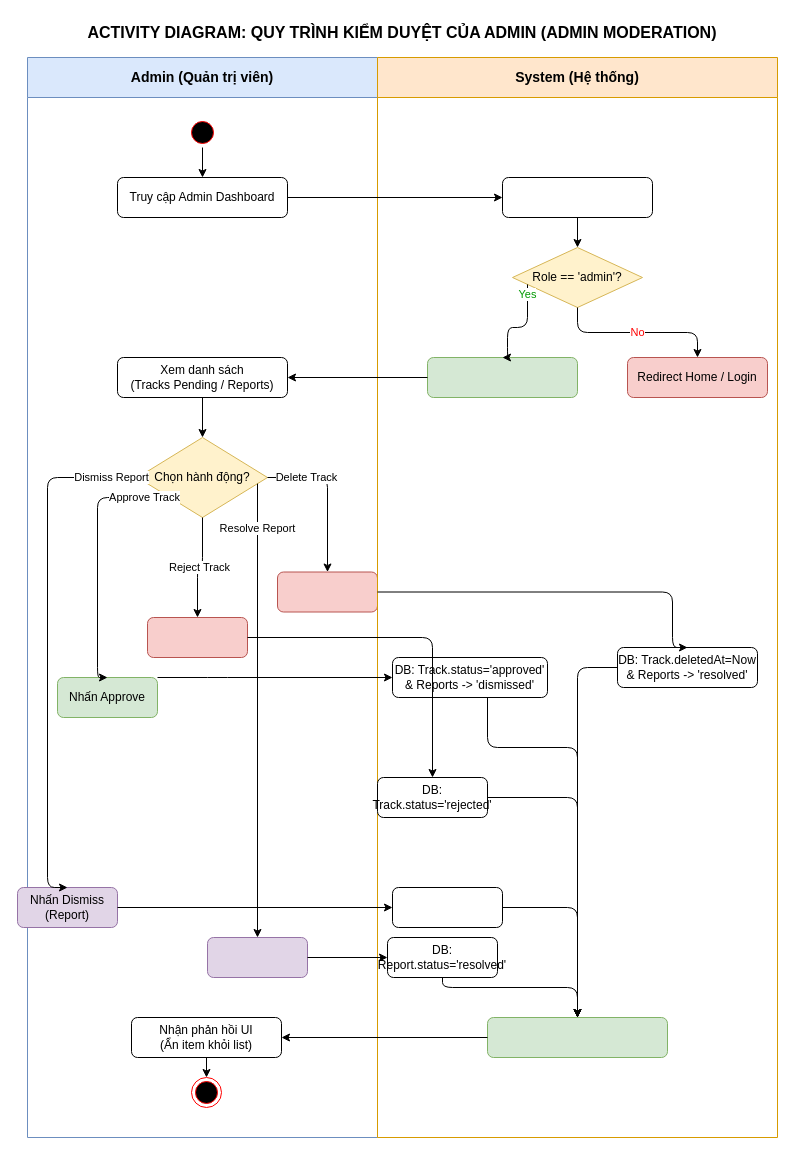
This 795x1155 diagram has some shape labels left out. The shapes that lost their labels are listed below. From the top down, each one's centre as x and y in pixels, then its label:
At point (577, 197): "Kiểm tra Role Admin".
At point (502, 377): "Load Stats & List (Pending / Reports)".
At point (327, 591): "Nhấn Delete".
At point (197, 637): "Nhấn Reject".
At point (447, 907): "DB: Report.status='dismissed'".
At point (257, 957): "Nhấn Resolve (Report)".
At point (577, 1037): "Trả về JSON {success: true}".
